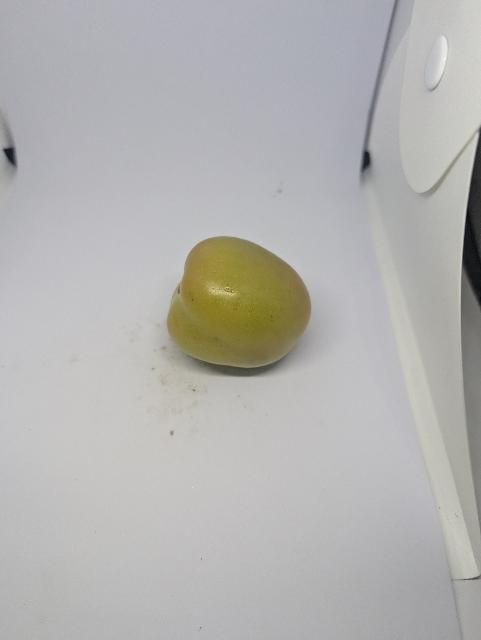breaker: (163, 236, 316, 376)
